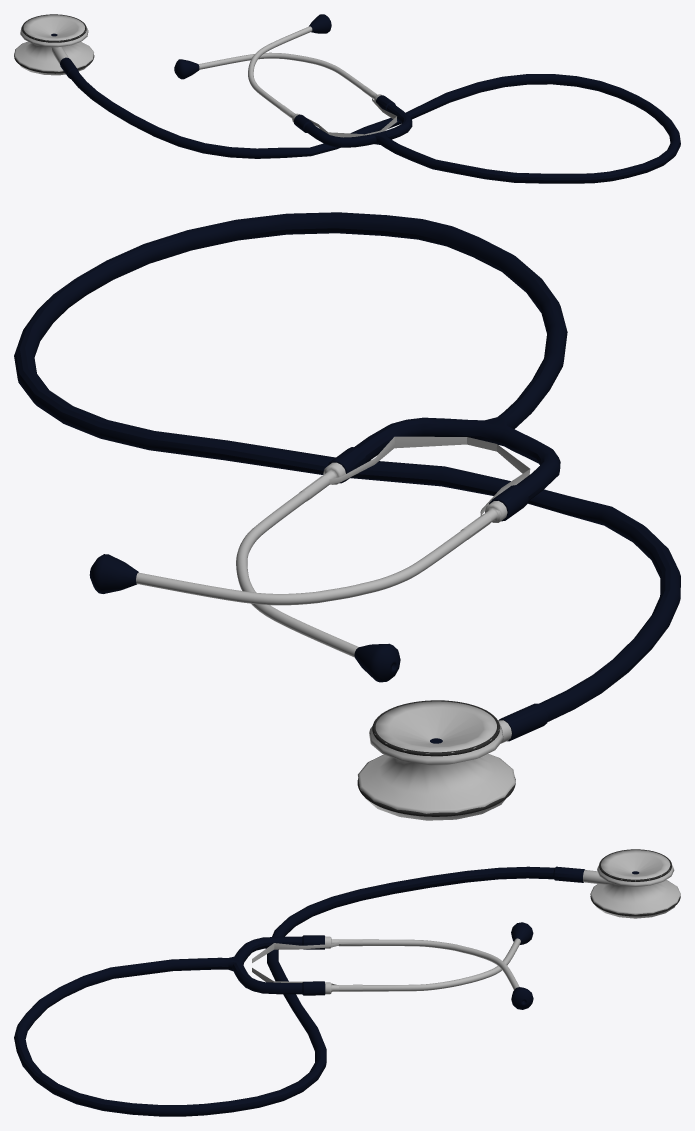
The model's file is stetoscope ori.glb.
3 views of the same model, one above another, from view 1: azimuth 30°, elevation 25°; view 2: azimuth 150°, elevation 25°; view 3: azimuth 270°, elevation 25° (orthographic). The views are drawn at different scales.
Visible parts, largest first — view 1: Plane, Cylinder, Plane.003, Plane.005, Plane.007, Cylinder.001; view 2: Plane, Cylinder, Plane.003, Plane.005, Plane.007, Cylinder.001; view 3: Plane, Cylinder, Plane.003, Plane.007, Plane.005, Cylinder.001.
Part boxes in pixels (<box>): Plane: <box>60,57,680,183</box>; Cylinder: <box>14,15,93,75</box>; Plane.003: <box>198,26,381,122</box>; Plane.005: <box>174,14,331,79</box>; Plane.007: <box>279,85,397,137</box>; Cylinder.001: <box>14,14,94,73</box>; Plane: <box>14,212,680,741</box>; Cylinder: <box>358,700,515,820</box>; Plane.003: <box>136,462,507,657</box>; Plane.005: <box>89,554,400,682</box>; Plane.007: <box>299,436,530,539</box>; Cylinder.001: <box>357,700,515,816</box>; Plane: <box>14,866,584,1116</box>; Cylinder: <box>590,850,680,918</box>; Plane.003: <box>325,936,520,994</box>; Plane.007: <box>252,939,362,991</box>; Plane.005: <box>511,922,533,1009</box>; Cylinder.001: <box>590,849,680,916</box>.
Bounding box in the file's own units: 1.67 × 0.1233 × 1.99.
